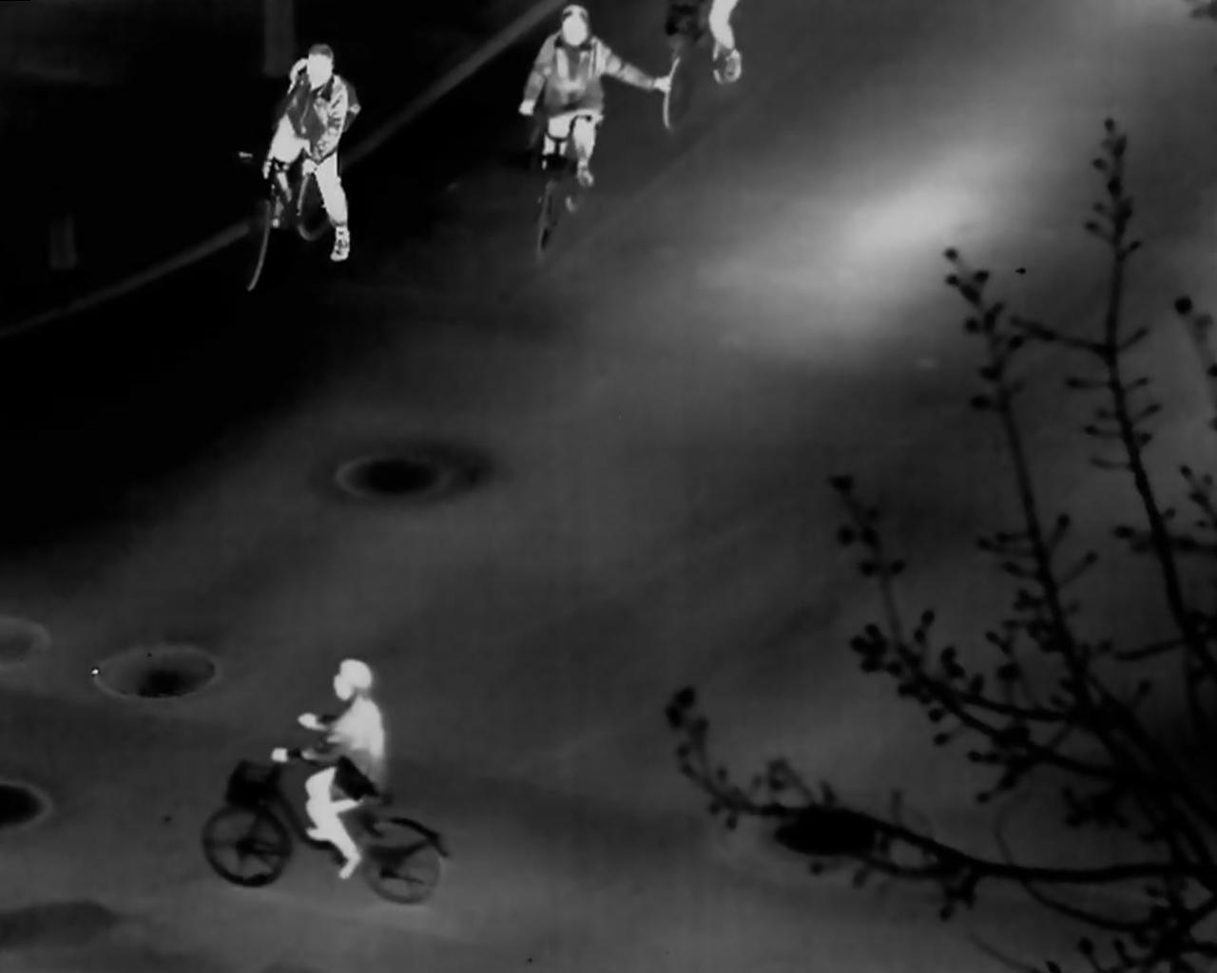person: (514, 5, 671, 190), (271, 657, 387, 880), (262, 46, 360, 260)
